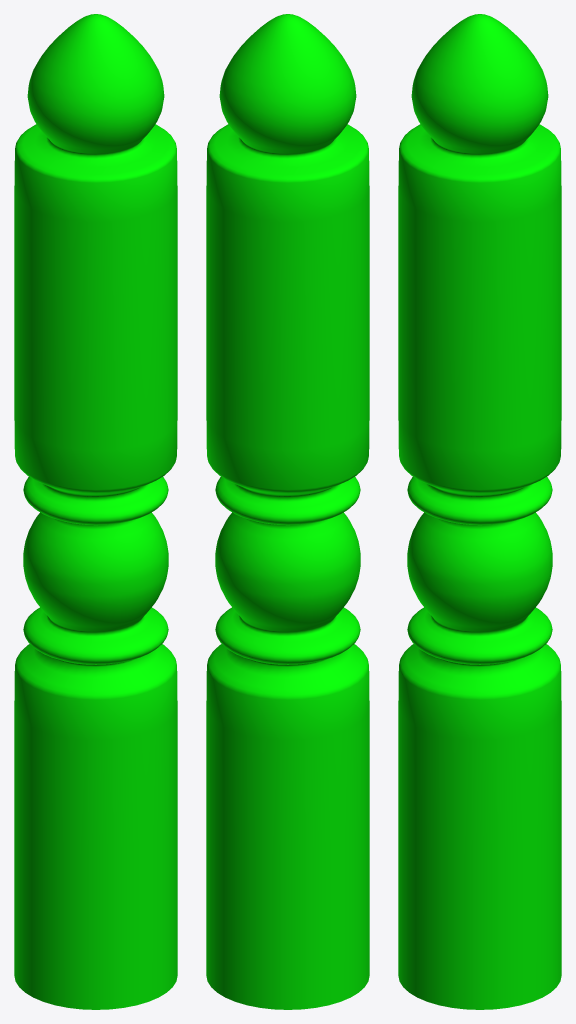
Rendered from sub_WoodHandrailPillar001.fbx.
The picture shows the model from 3 angles, left to right: view 1: azimuth 30°, elevation 25°; view 2: azimuth 150°, elevation 25°; view 3: azimuth 270°, elevation 25°; orthographic projection.
Parts seen in each view (by area): view 1: sub_WoodHandrailPillar001; view 2: sub_WoodHandrailPillar001; view 3: sub_WoodHandrailPillar001.
Boxes of the visible parts, left/top/right/bottom form: sub_WoodHandrailPillar001: left=14, top=14, right=177, bottom=1009; sub_WoodHandrailPillar001: left=206, top=14, right=369, bottom=1009; sub_WoodHandrailPillar001: left=398, top=14, right=561, bottom=1009.
Size of the model in its own units: 0.285 by 1.85 by 0.2849.
